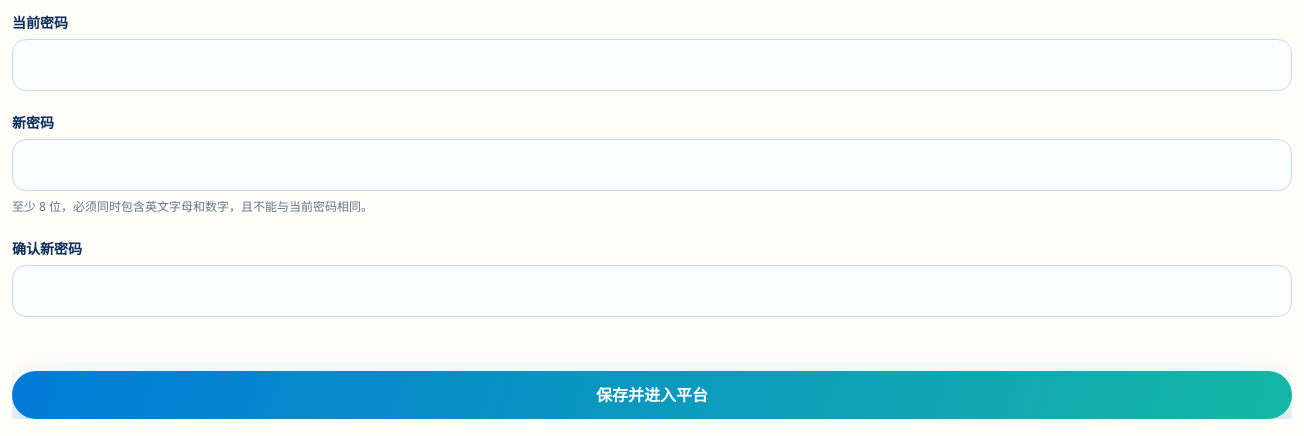
password forms › applies the shared policy before submitting the change form
Type "CurrentPass123" into the password field labelled "当前密码" at coordinates (652, 65), box [12,39,1292,91]
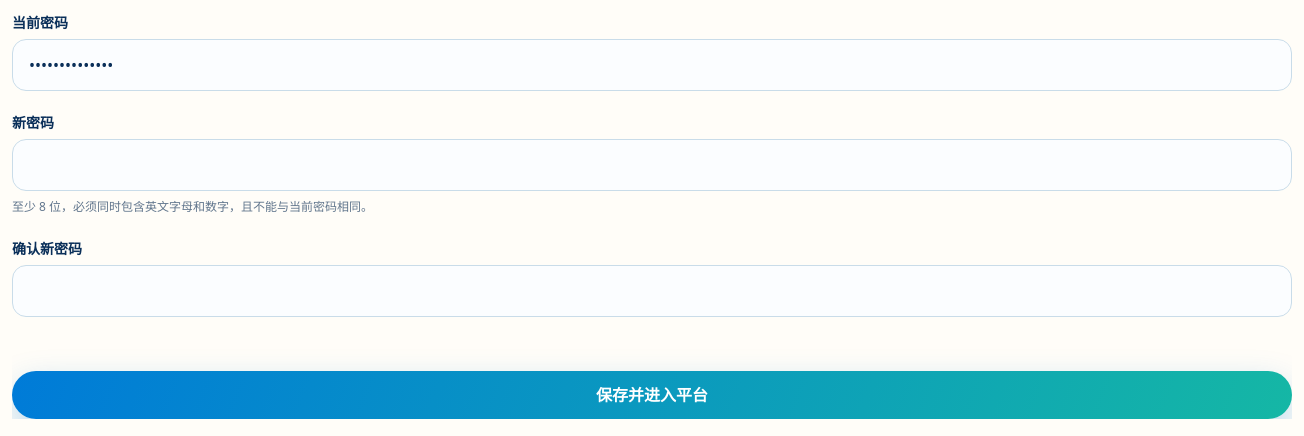
Type "abcdefgh" into the password field labelled "新密码" at coordinates (652, 165), box [12,139,1292,191]
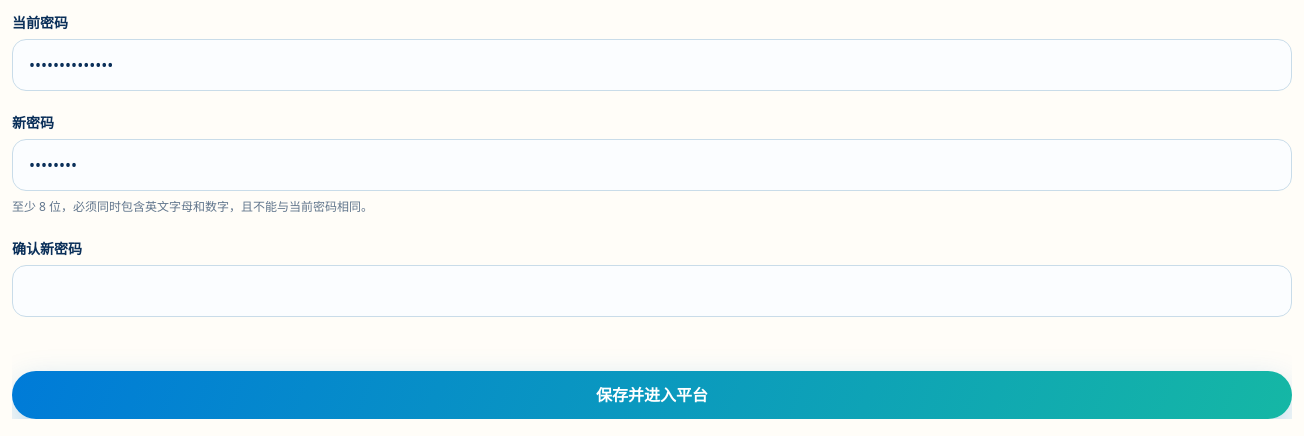
Type "abcdefgh" into the password field labelled "确认新密码" at coordinates (652, 291), box [12,265,1292,317]
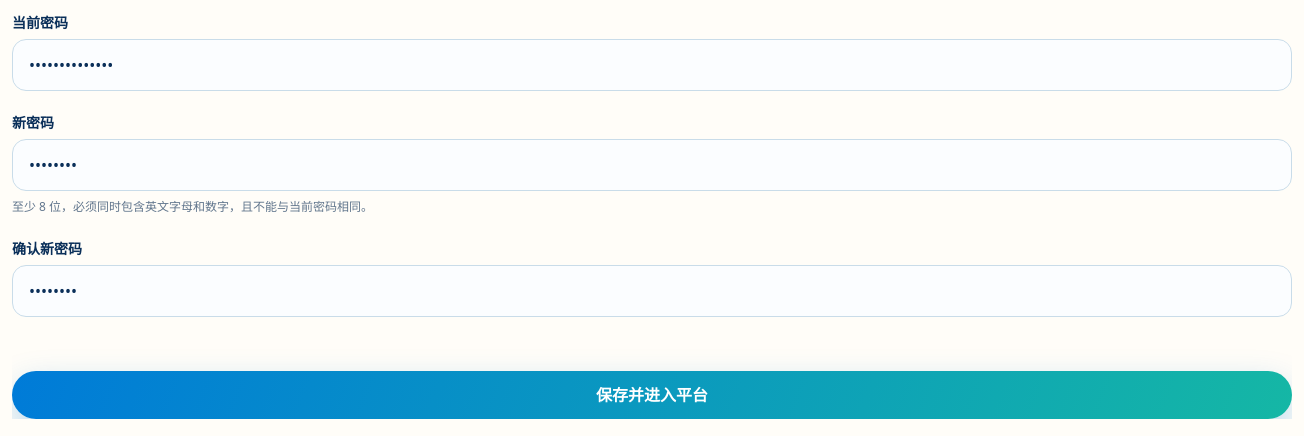
Submit the form labelled "新密码"
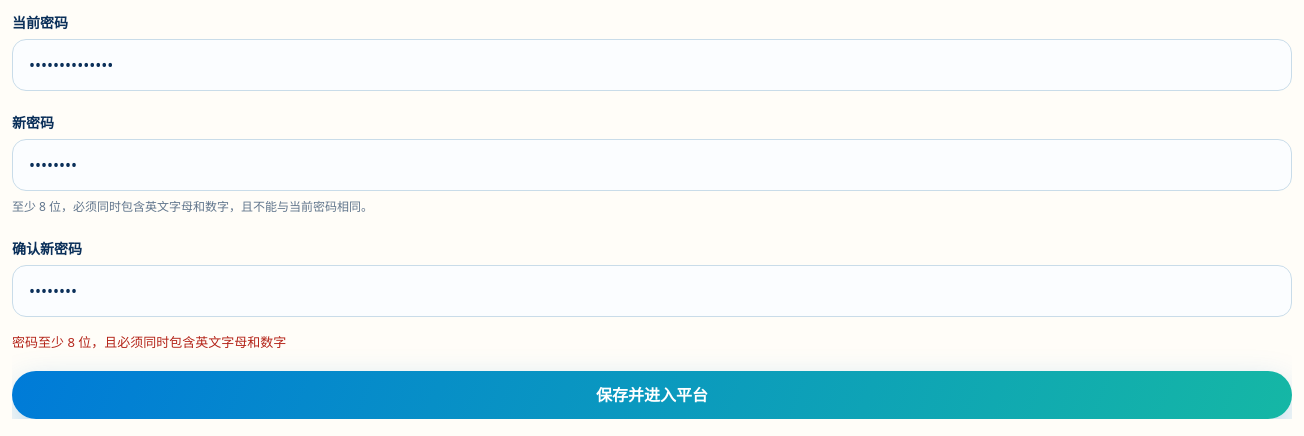
Now the text "密码至少 8 位，且必须同时包含英文字母和数字" is shown, box [12,333,286,351]
